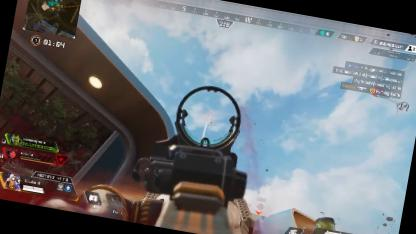Target: (207, 118, 215, 128)
